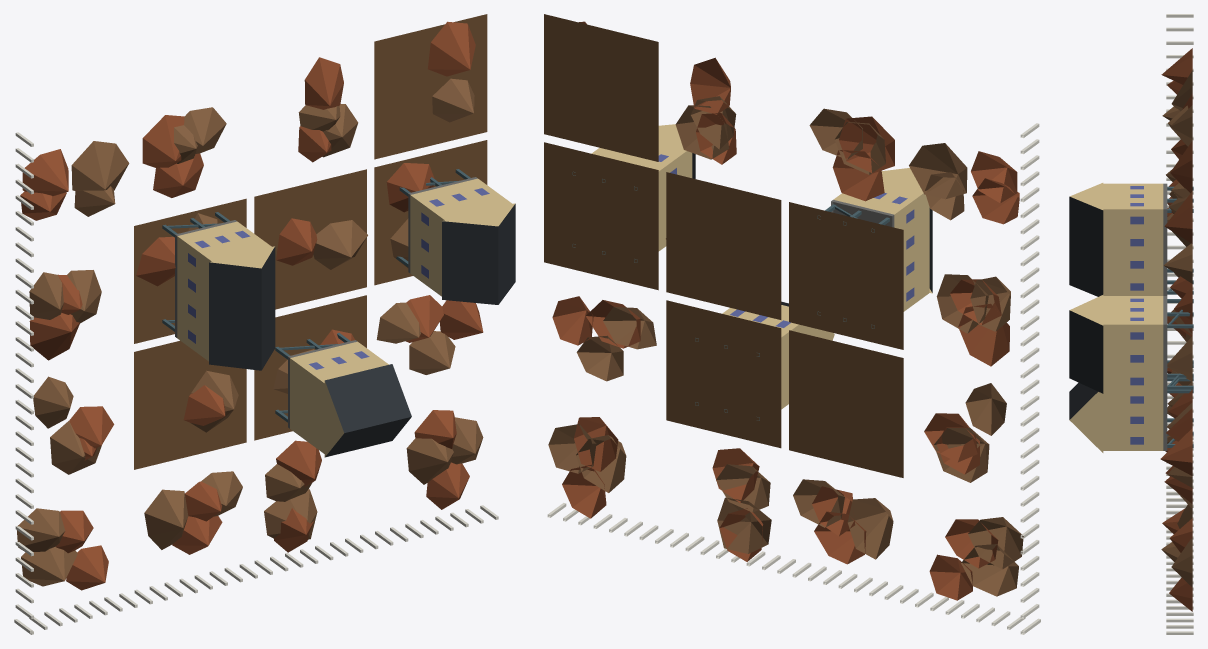
Rendered from complete.glb.
3 renders of one model, left to right at view 1: azimuth 30°, elevation 25°; view 2: azimuth 150°, elevation 25°; view 3: azimuth 270°, elevation 25°, orthographic. The views are drawn at different scales.
Visible parts, largest first — view 1: t12_g106.003, t32_g114.003, t21_g109.003, t33_g115.003, t22_g110.003, t11_g105.003, t00_g100.003, t03_g103.003, t10_g104.003, t30_g112.003, t20_g108.003, t02_g102.003 (+4 smaller); view 2: t12_g106.003, t32_g114.003, t21_g109.003, t22_g110.003, t33_g115.003, t11_g105.003, t00_g100.003, t03_g103.003, t10_g104.003, t30_g112.003, t02_g102.003, t20_g108.003 (+4 smaller); view 3: t12_g106.003, t32_g114.003, t21_g109.003, t30_g112.003, t03_g103.003, t31_g113.003, t33_g115.003, t20_g108.003, t23_g111.003, t13_g107.003, t10_g104.003, t01_g101.003 (+3 smaller).
Boxes of the visible parts, x1,y1,x2,y2 form: t12_g106.003: (134, 198, 275, 370); t32_g114.003: (374, 140, 515, 304); t21_g109.003: (254, 295, 411, 457); t33_g115.003: (374, 14, 487, 159); t22_g110.003: (254, 169, 367, 309); t11_g105.003: (134, 340, 246, 469); t00_g100.003: (14, 508, 137, 634); t03_g103.003: (15, 132, 129, 257); t10_g104.003: (134, 471, 257, 604); t30_g112.003: (375, 410, 498, 545); t20_g108.003: (254, 440, 378, 574); t02_g102.003: (15, 258, 101, 382); t12_g106.003: (789, 168, 932, 349); t32_g114.003: (544, 124, 695, 290); t21_g109.003: (666, 300, 834, 448); t22_g110.003: (666, 172, 781, 319); t33_g115.003: (544, 14, 658, 161); t11_g105.003: (789, 330, 903, 477); t00_g100.003: (915, 507, 1040, 634); t03_g103.003: (909, 123, 1039, 250); t10_g104.003: (792, 479, 918, 603); t30_g112.003: (547, 417, 673, 543); t02_g102.003: (936, 251, 1039, 378); t20_g108.003: (670, 448, 795, 573); t12_g106.003: (1069, 183, 1193, 296); t32_g114.003: (1069, 286, 1193, 393); t21_g109.003: (1069, 364, 1193, 452); t30_g112.003: (1161, 518, 1193, 634); t03_g103.003: (1161, 14, 1193, 120); t31_g113.003: (1160, 402, 1192, 487); t33_g115.003: (1163, 191, 1192, 283); t20_g108.003: (1162, 476, 1193, 584); t23_g111.003: (1169, 141, 1192, 213); t13_g107.003: (1167, 93, 1192, 159); t10_g104.003: (1165, 435, 1193, 533); t01_g101.003: (1167, 232, 1193, 342).
Bounding box in the file's own units: 62.88 × 63.16 × 16.5.
